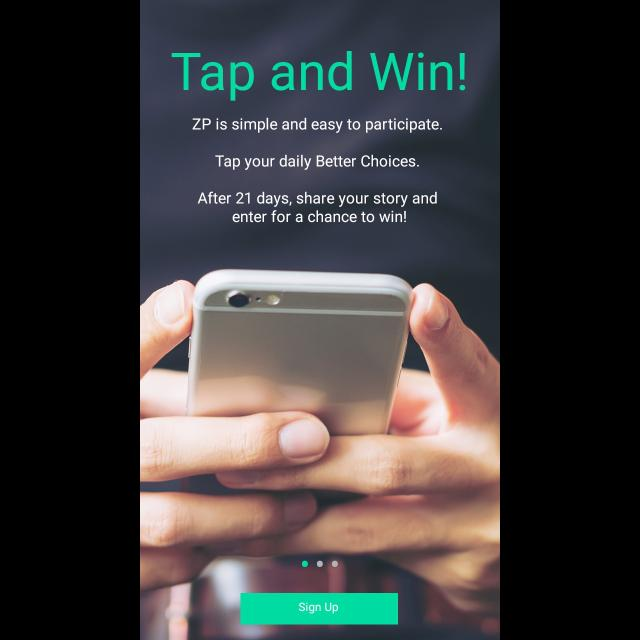backgroundimage: (140, 1, 500, 640)
pageindicator: (302, 560, 338, 568)
text: (172, 51, 464, 100), (197, 191, 437, 223), (193, 118, 443, 134), (215, 154, 419, 170)
textbutton: (240, 593, 398, 625)
